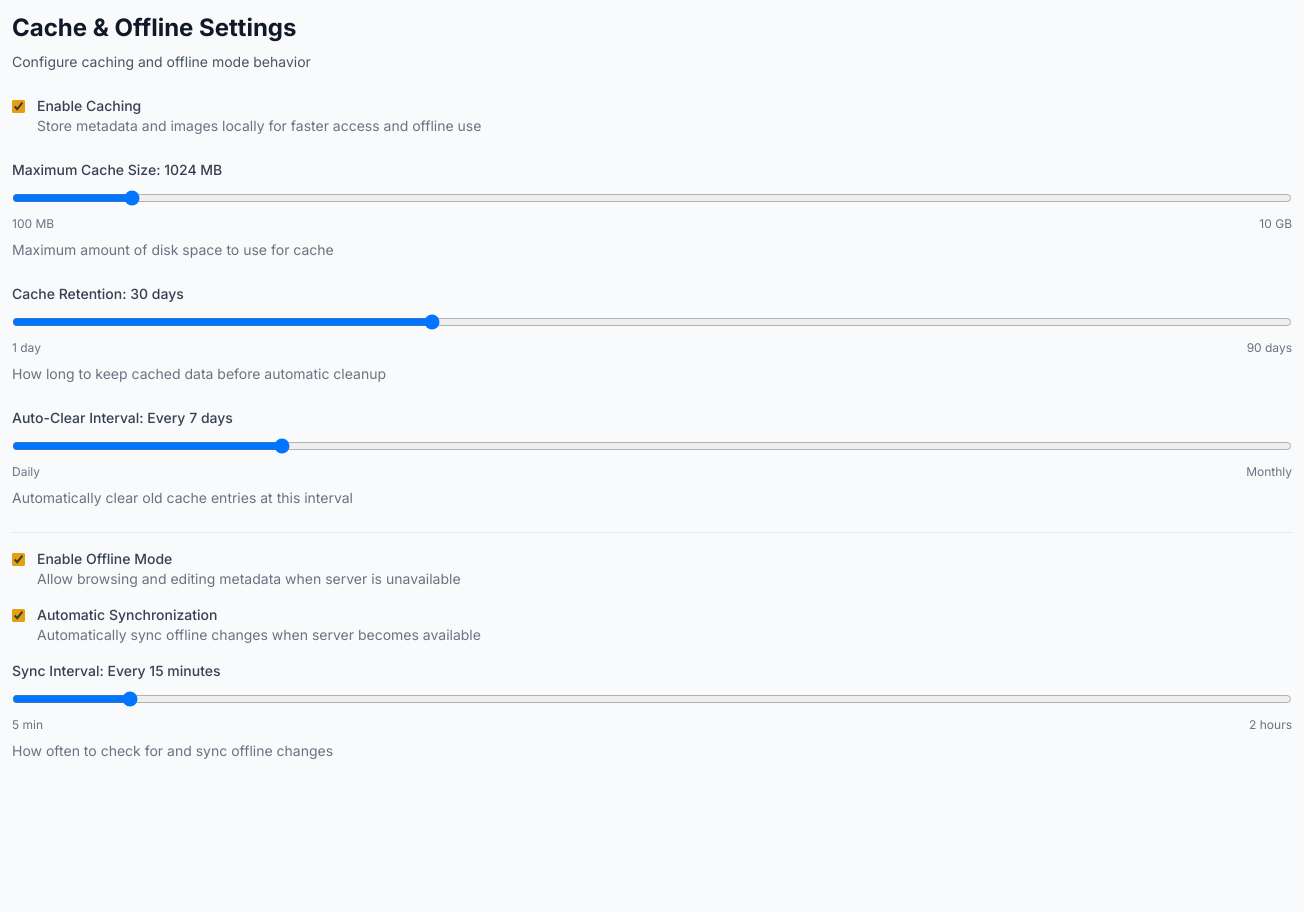
CacheSettings › should toggle offline mode
Click the checkbox labelled "Enable Offline Mode" at (18, 560), box [12,553,25,566]
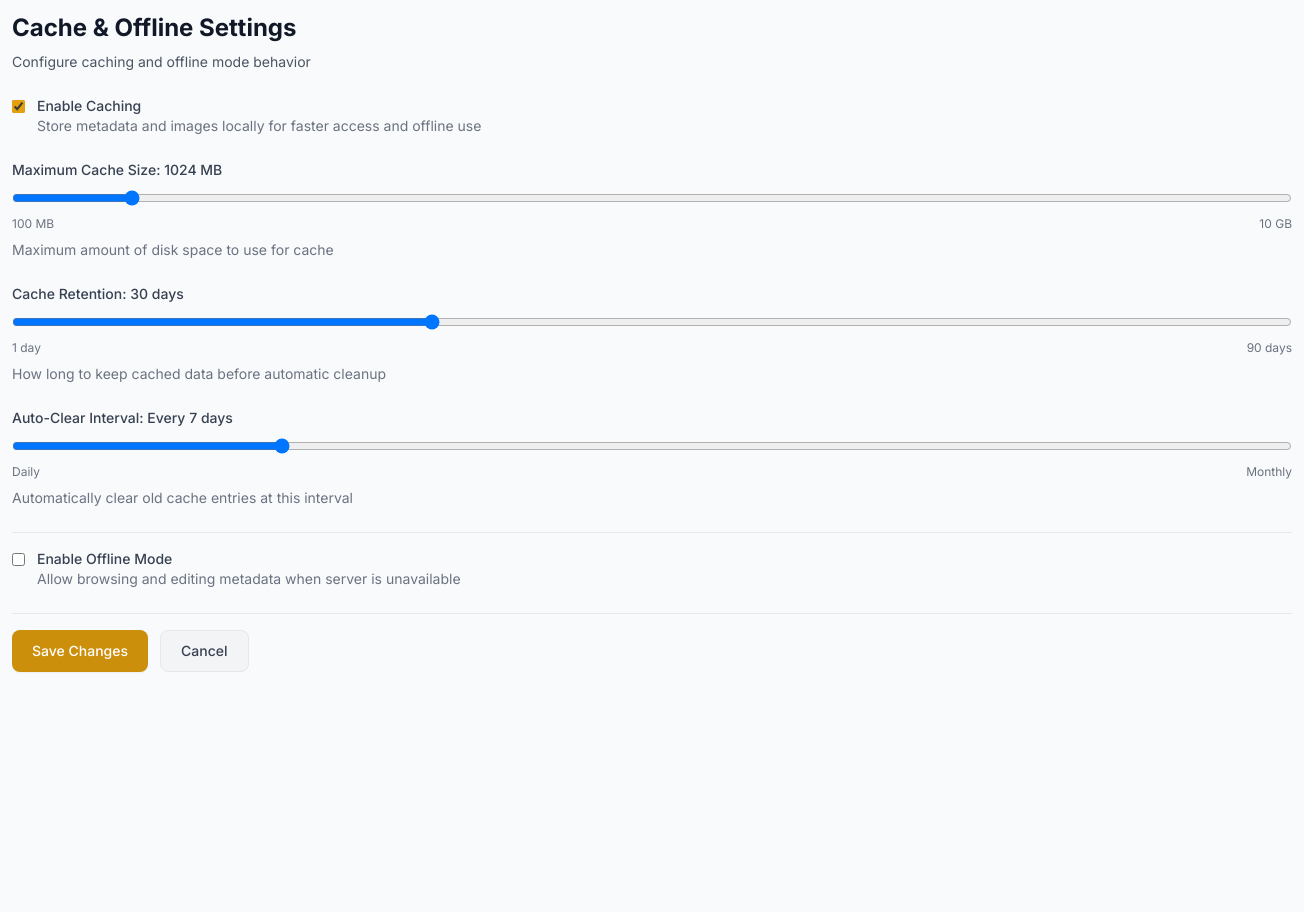
Check: the checkbox labelled "Enable Offline Mode" is not checked, box [12,553,25,566]
Check: the text "Save Changes" is shown, box [32,641,128,661]
